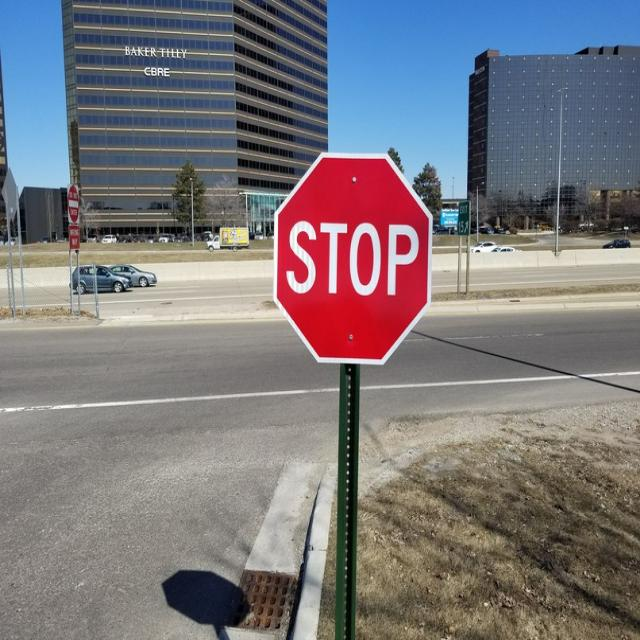Panneau-Stop: (267, 141, 438, 370)
